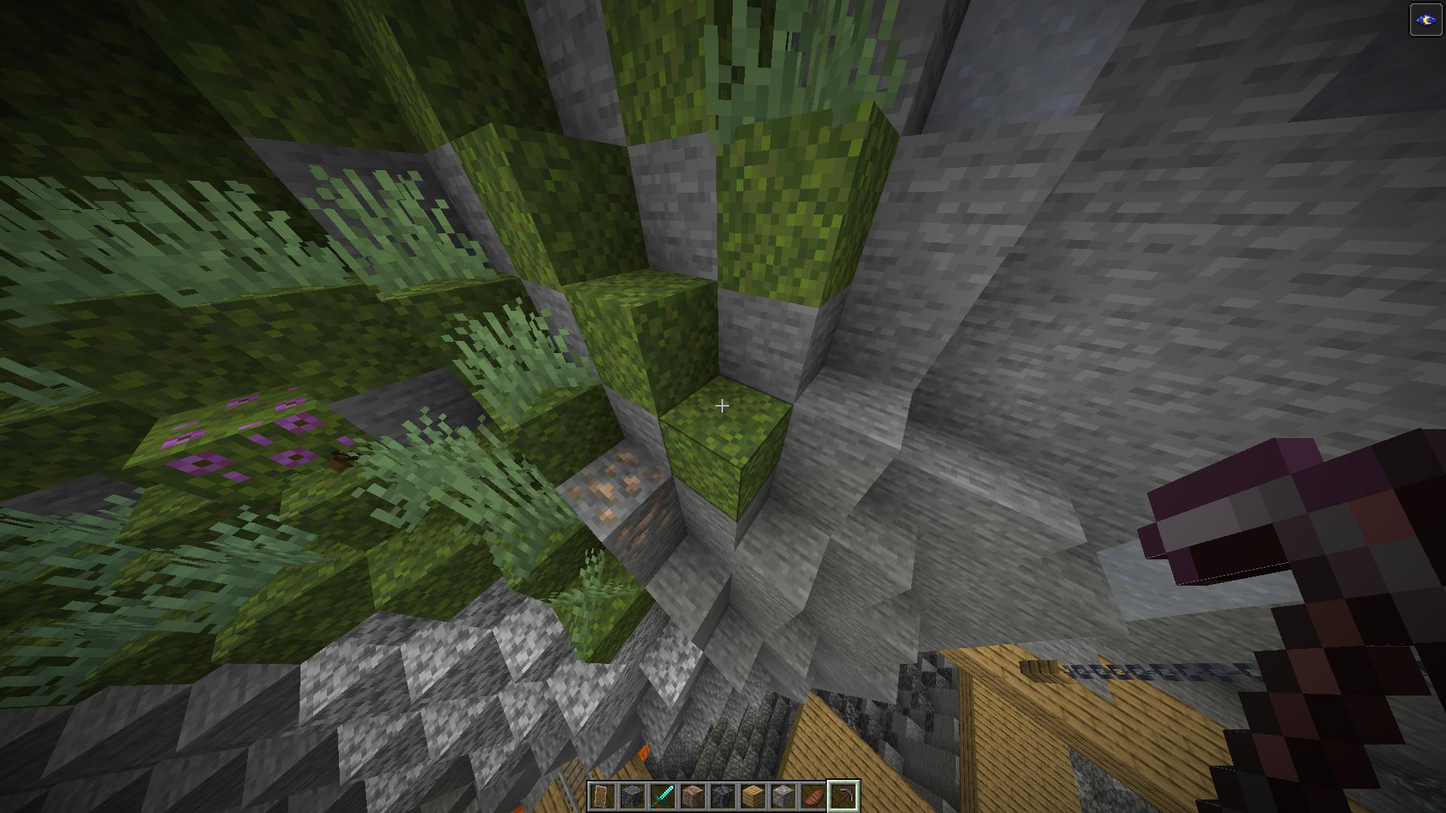iron ore: (565, 444, 654, 514), (609, 490, 679, 552)
